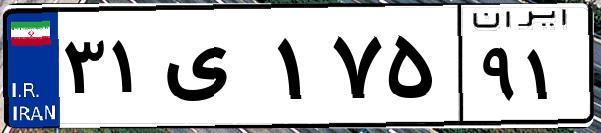1: (270, 28, 330, 110), (525, 38, 570, 115), (110, 28, 158, 98)
3: (57, 26, 110, 100)
5: (385, 28, 445, 110)
7: (330, 28, 385, 110)
9: (475, 38, 525, 113)
ی: (158, 20, 270, 120)
